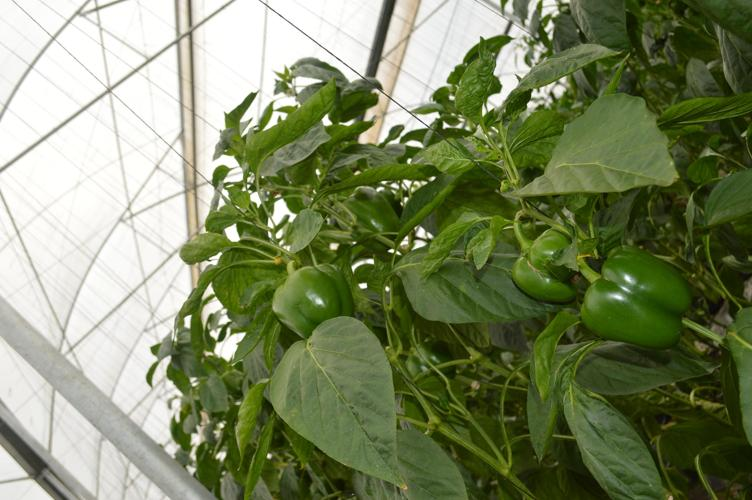BellPepper: (573, 239, 705, 358), (269, 262, 368, 353), (505, 221, 587, 309)
